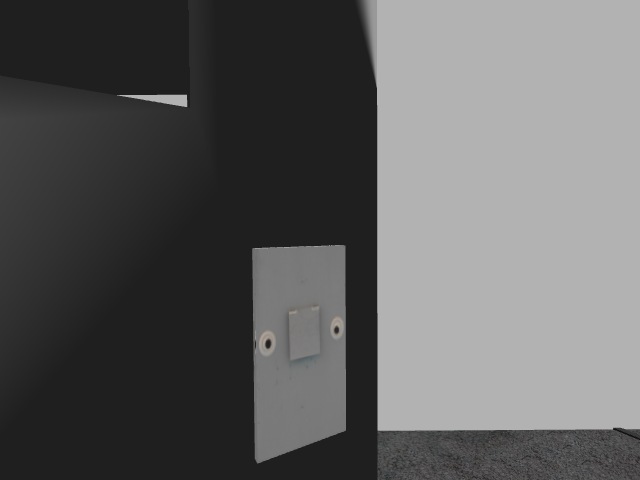facade: (258, 304, 343, 363)
